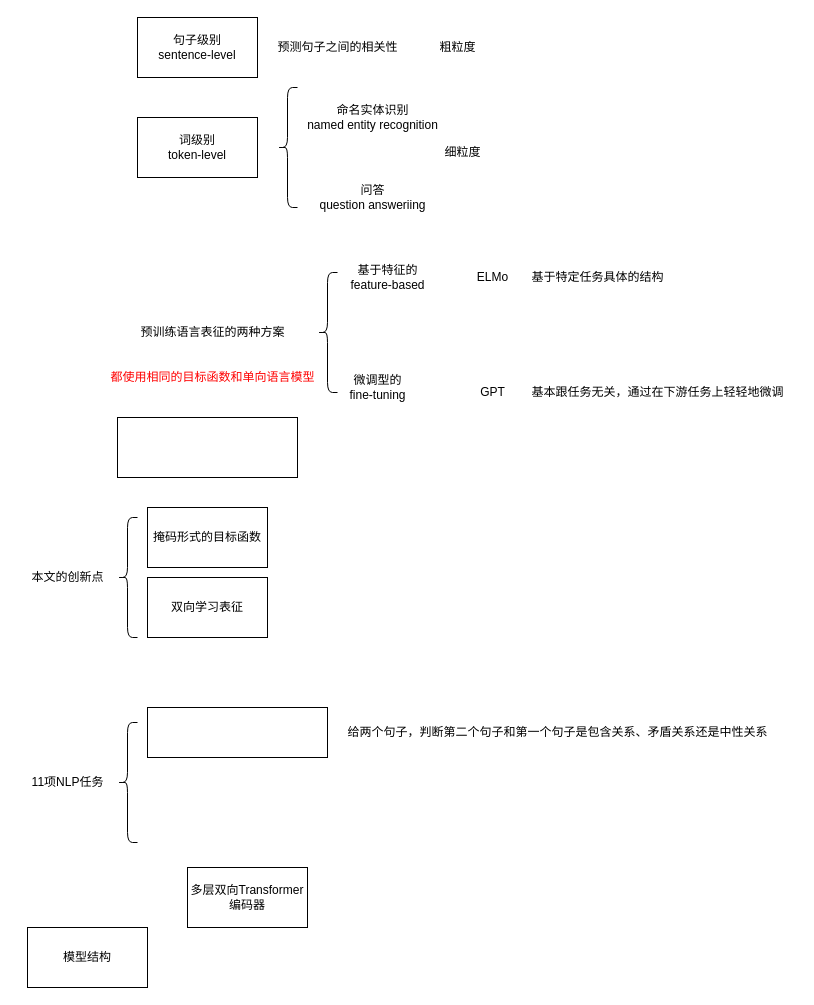
This 814x1005 diagram has some shape labels left out. The shapes that lost their labels are listed below. From the top down, each one's centre as x and y in pixels, then its label:
At (207,447): "上述方法存在的问题： 1.单向不是双向，不是最优的，例如对于句子级别任务".
At (237,732): "MNLI（Multi-Genre Natural Language Inference）".
